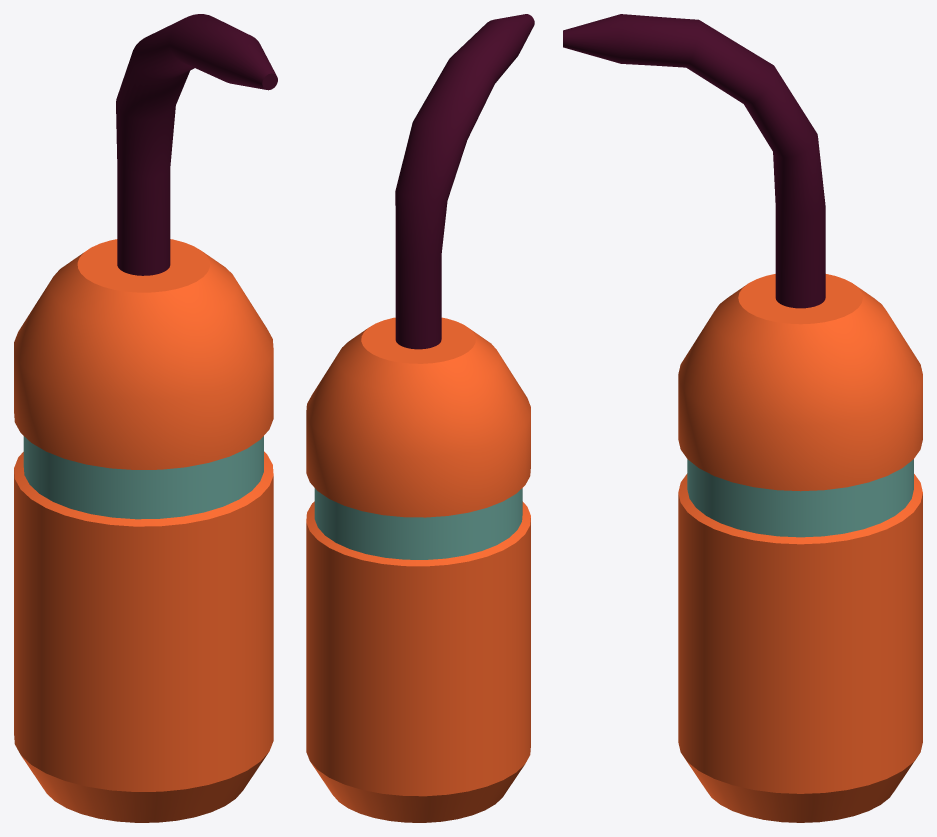
Rendered from welder.fbx.
The picture shows the model from 3 angles, left to right: view 1: azimuth 30°, elevation 25°; view 2: azimuth 150°, elevation 25°; view 3: azimuth 270°, elevation 25°; orthographic projection. The views are drawn at different scales.
Parts seen in each view (by area): view 1: Cylinder; view 2: Cylinder; view 3: Cylinder.
Boxes of the visible parts, box(x1,y1,x2,y2) form: Cylinder: box(14, 14, 277, 822); Cylinder: box(306, 14, 534, 822); Cylinder: box(563, 14, 922, 822).
Bounding box in the file's own units: 200 × 691 × 294.
